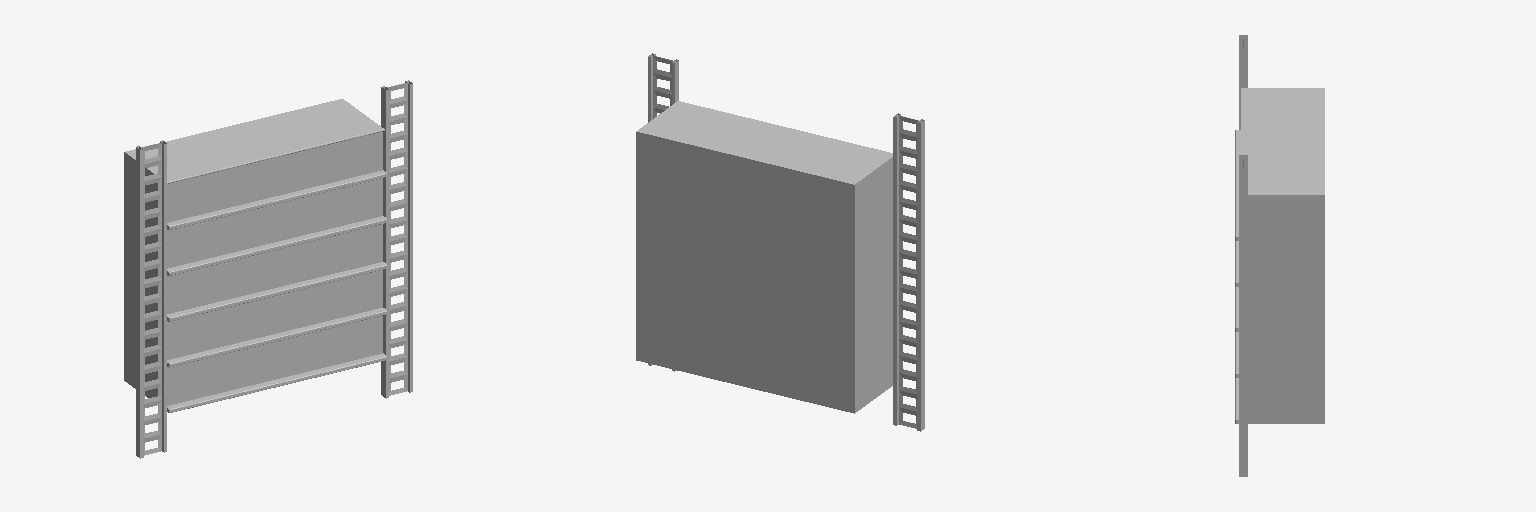
Rendered from server_rack.obj.
3 renders of one model, left to right at view 1: azimuth 30°, elevation 25°; view 2: azimuth 150°, elevation 25°; view 3: azimuth 270°, elevation 25°, orthographic.
Bounding box in the file's own units: 3.33 × 3.6 × 0.953.